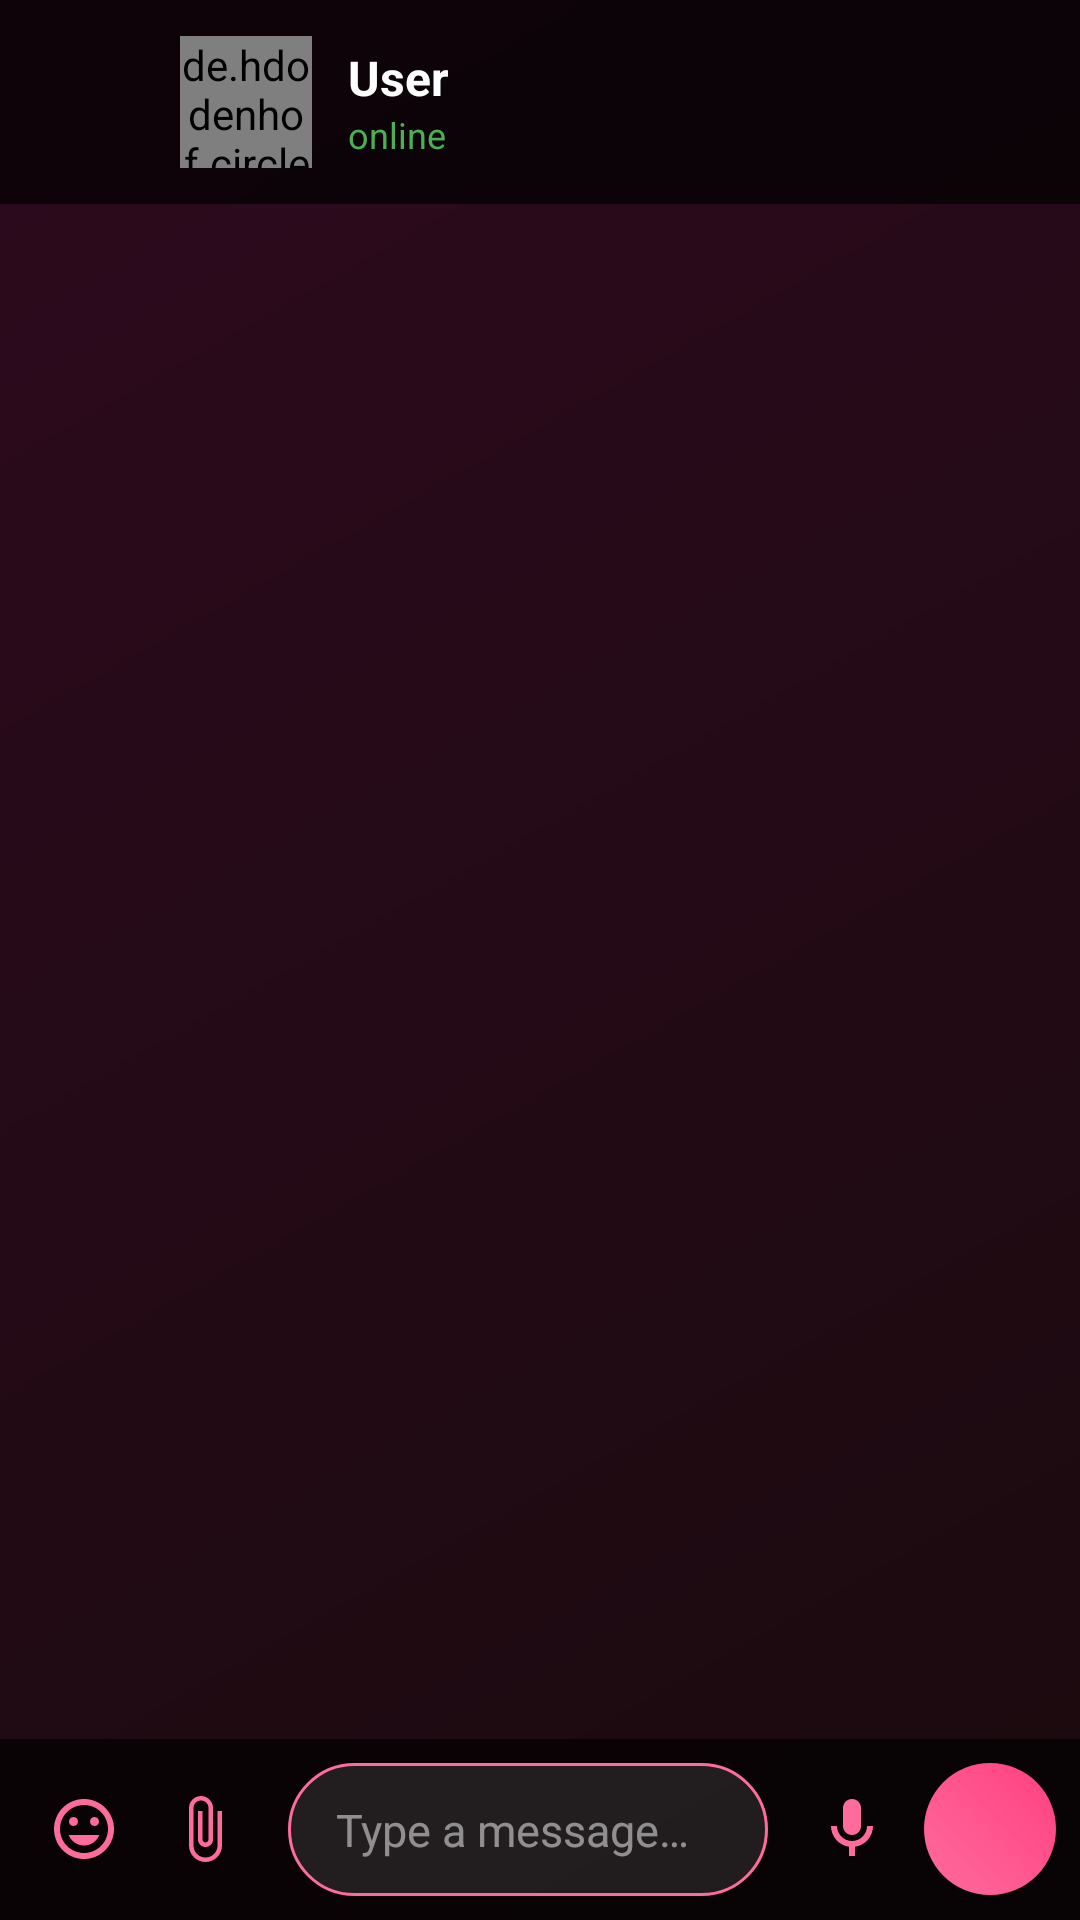

Screen size 1080*1920. Icon name, then its center in pixels as (x=x, y=y):
attach: (x=205, y=1829)
emoji: (x=84, y=1829)
mic: (x=852, y=1827)
